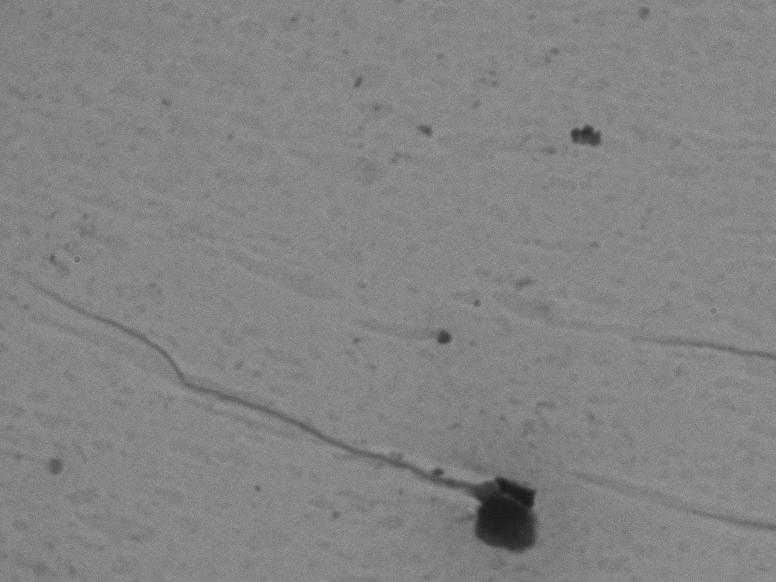Abnormal: (31, 256, 567, 568)
